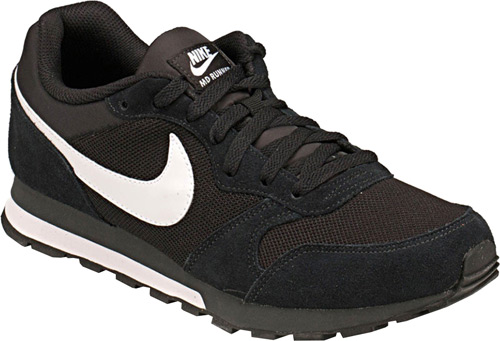nike: (45, 113, 199, 230)
